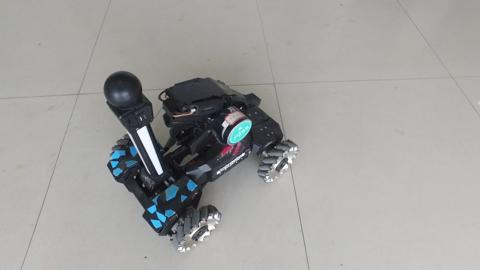chariot: (83, 56, 290, 241)
